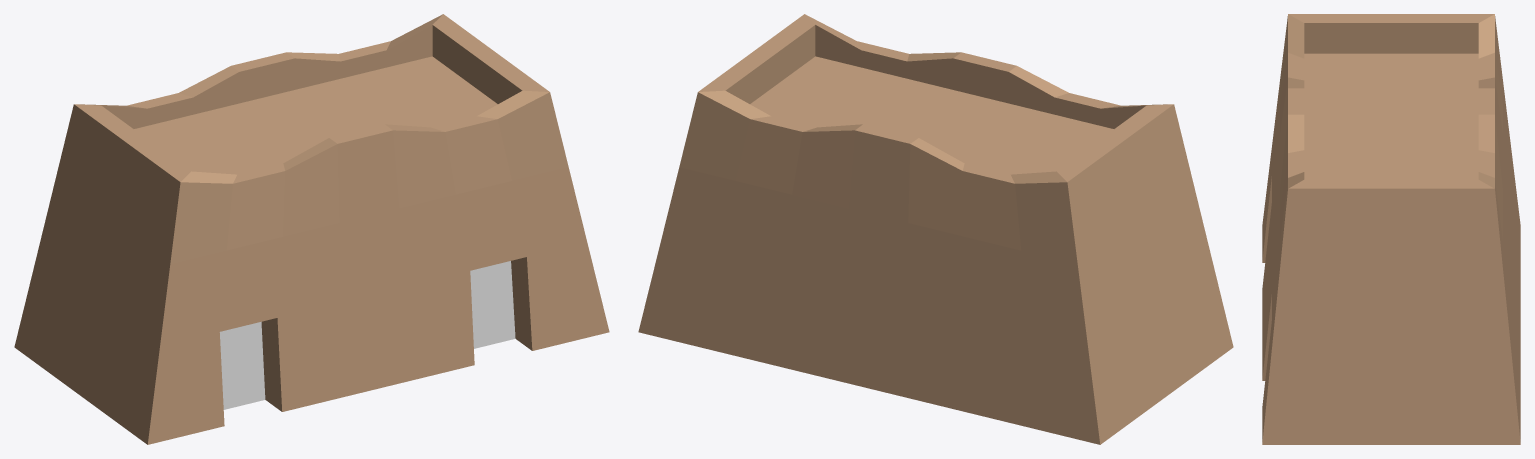
Rendered from HouseBase003Var001.fbx.
The picture shows the model from 3 angles, left to right: view 1: azimuth 30°, elevation 25°; view 2: azimuth 150°, elevation 25°; view 3: azimuth 270°, elevation 25°; orthographic projection. The views are drawn at different scales.
Visible parts, largest first — view 1: HouseBase003Var001; view 2: HouseBase003Var001; view 3: HouseBase003Var001.
Boxes of the visible parts, <box> form: HouseBase003Var001: <box>14,14,609,444</box>; HouseBase003Var001: <box>638,14,1233,444</box>; HouseBase003Var001: <box>1262,14,1520,444</box>.
Bounding box in the file's own units: 1600 × 800 × 800.
